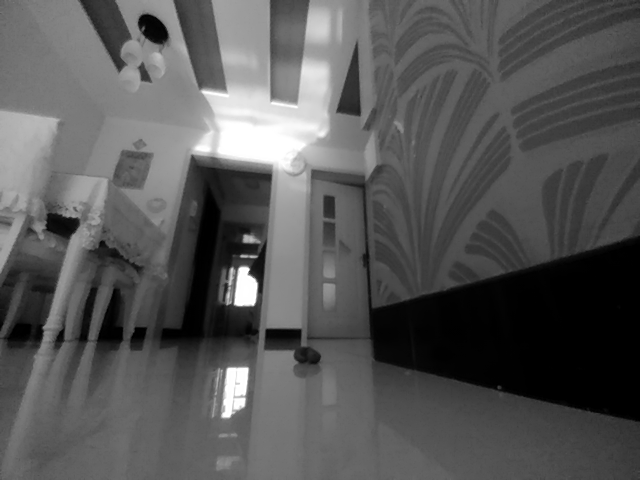pet feces: (291, 344, 323, 365)
